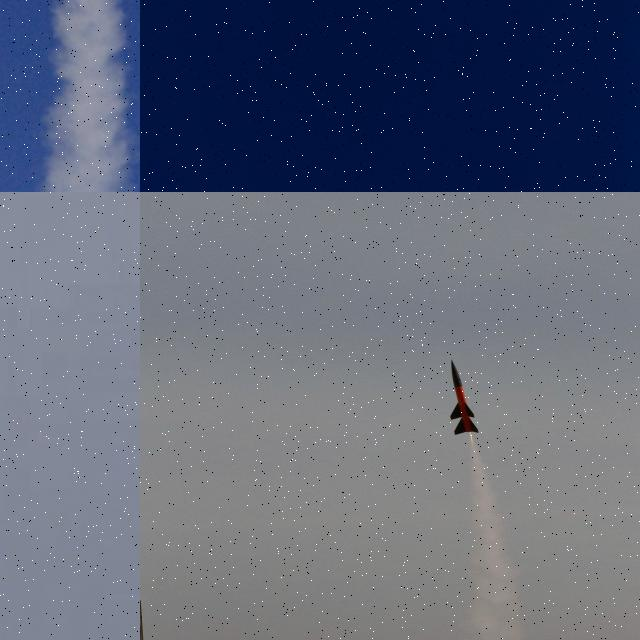Rocket: (449, 359, 479, 435)
